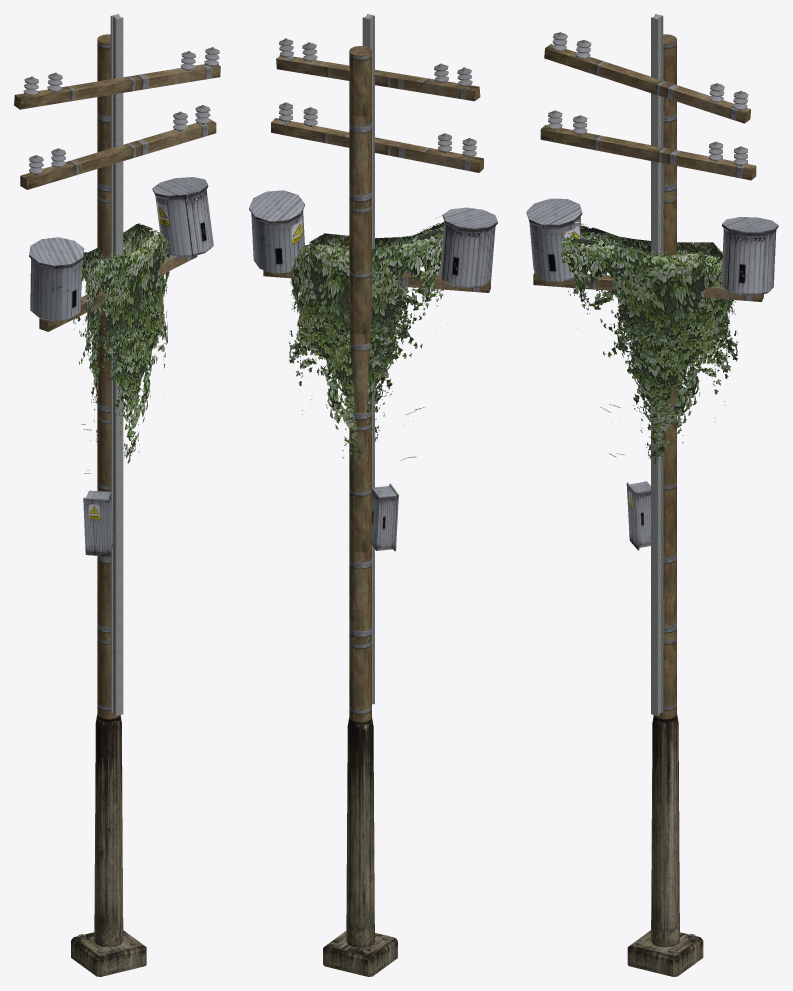
The model's file is CIV_Powerpole_01.fbx.
3 views of the same model, side by side, from view 1: azimuth 30°, elevation 25°; view 2: azimuth 150°, elevation 25°; view 3: azimuth 330°, elevation 25° (orthographic).
Visible parts, largest first — view 1: CIV_Powerpole_01; view 2: CIV_Powerpole_01; view 3: CIV_Powerpole_01.
Boxes of the visible parts, x1=… form: CIV_Powerpole_01: x1=14, y1=14, x2=220, y2=976; CIV_Powerpole_01: x1=249, y1=14, x2=497, y2=976; CIV_Powerpole_01: x1=526, y1=14, x2=778, y2=976.
Size of the model in its own units: 166 by 723 by 87.97.
